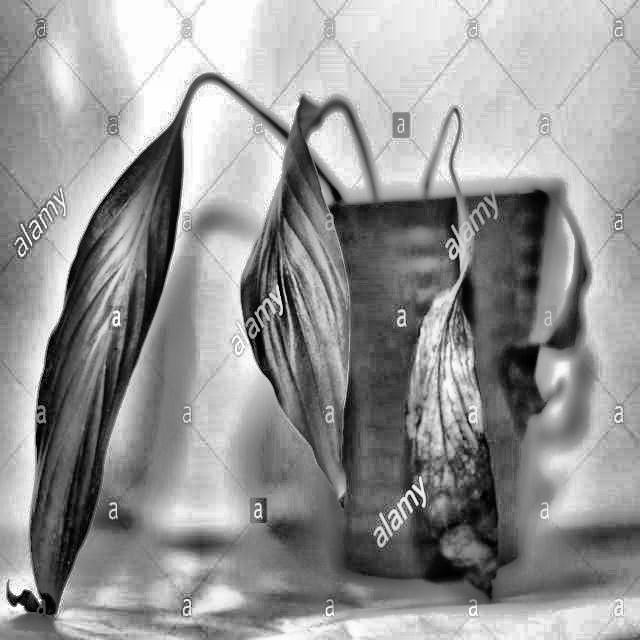plants: (14, 41, 387, 624), (408, 96, 604, 604)
